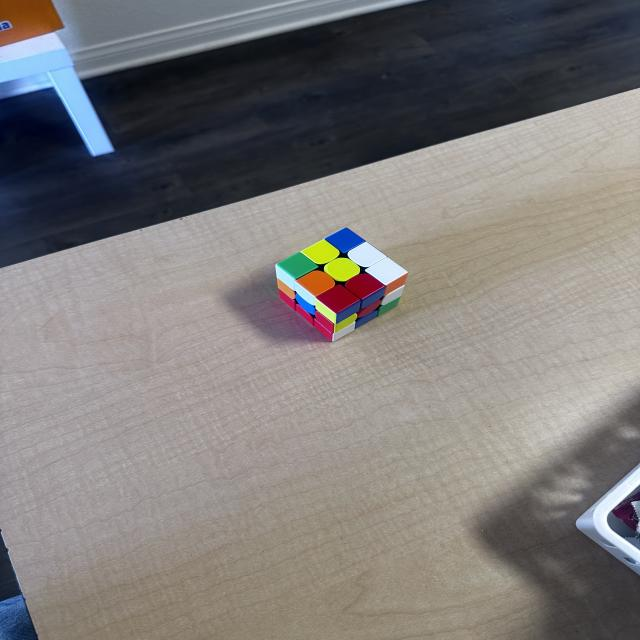sticker: (303, 238, 336, 262), (300, 270, 334, 293), (346, 275, 382, 296), (326, 284, 358, 307), (351, 241, 382, 264), (280, 254, 312, 276), (373, 257, 401, 280), (329, 258, 357, 278), (326, 230, 357, 248)
